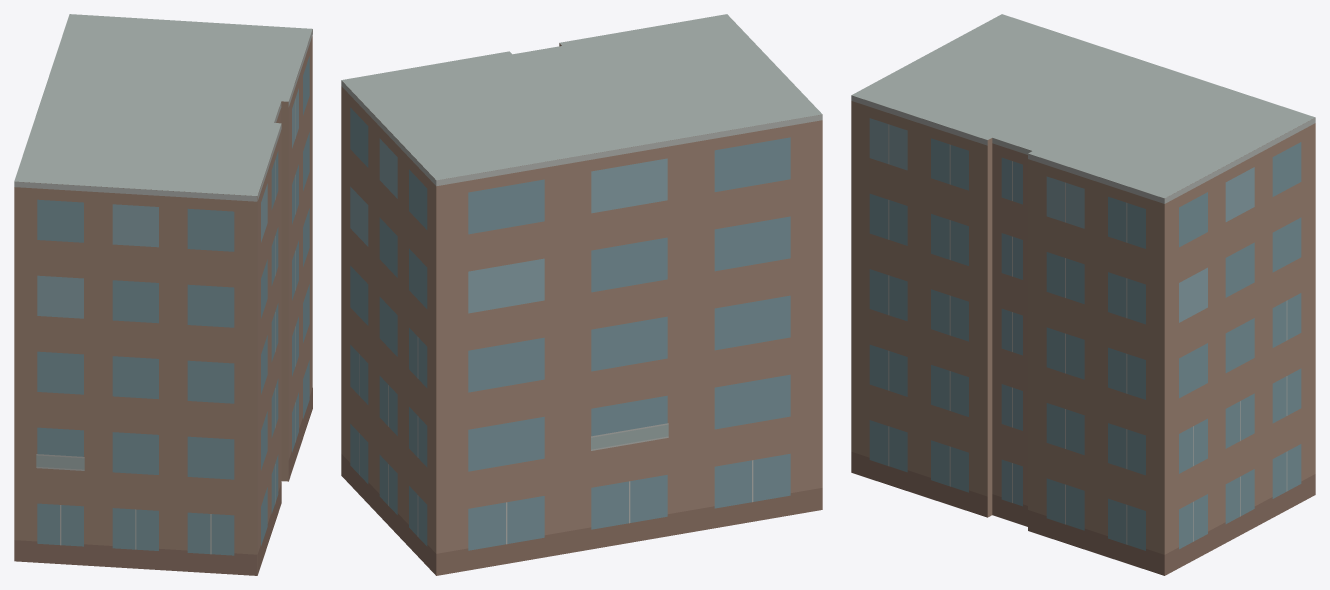
The model's file is survey-upis-32885557.glb.
3 renders of one model, left to right at view 1: azimuth 30°, elevation 25°; view 2: azimuth 150°, elevation 25°; view 3: azimuth 270°, elevation 25°, orthographic. The views are drawn at different scales.
Parts seen in each view (by area): view 1: survey-upis-32885557.tmp; view 2: survey-upis-32885557.tmp; view 3: survey-upis-32885557.tmp.
Part boxes in pixels (x1=…): survey-upis-32885557.tmp: x1=14, y1=14, x2=312, y2=575; survey-upis-32885557.tmp: x1=341, y1=14, x2=822, y2=575; survey-upis-32885557.tmp: x1=851, y1=14, x2=1315, y2=575.
Bounding box in the file's own units: 17.41 × 16.6 × 18.52.
